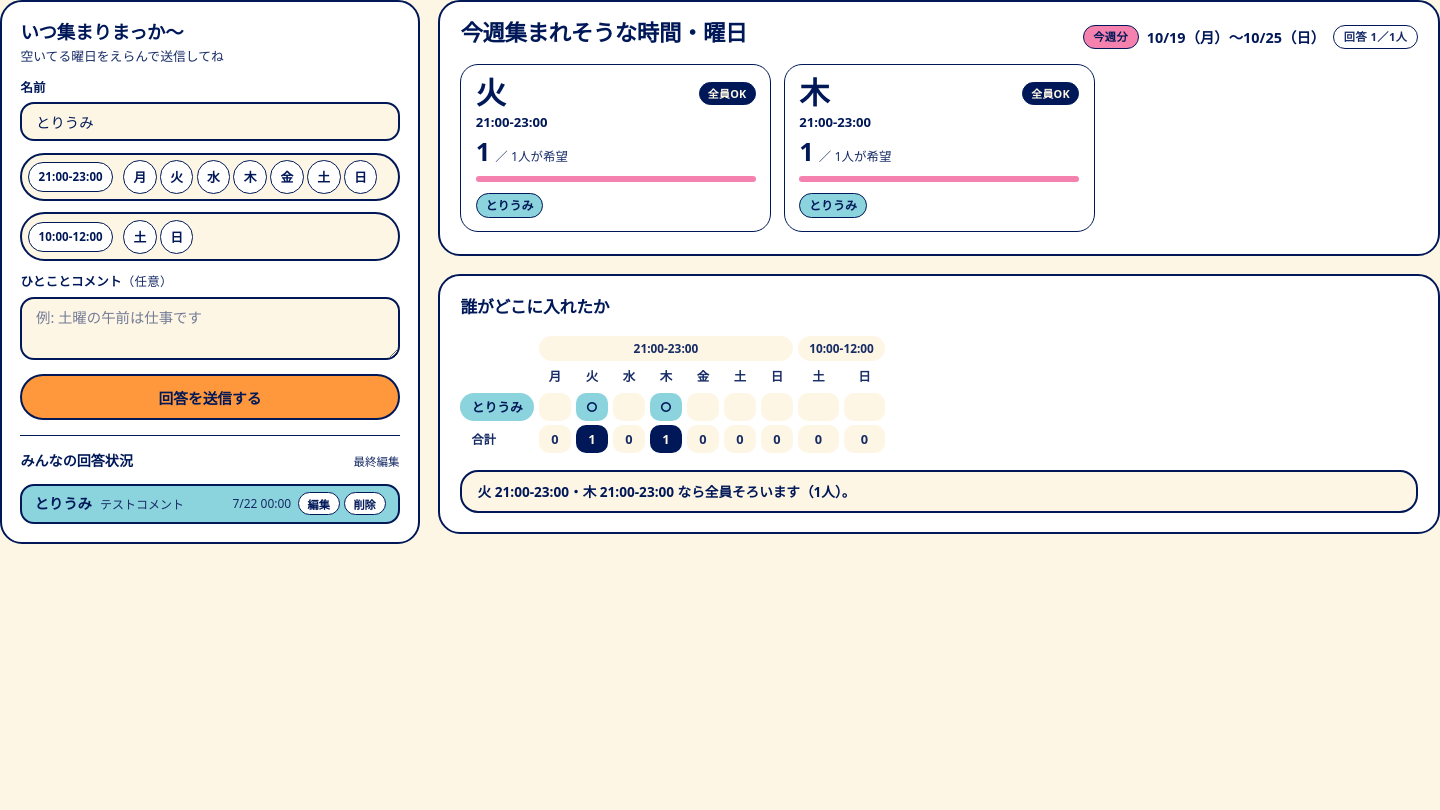
Test: MatrixPageClient: 削除フロー › DELETE API 失敗時にエラーメッセージを表示する
The image size is (1440, 810).
Click the button "削除" at coordinates (365, 504), box [344,492,386,515]
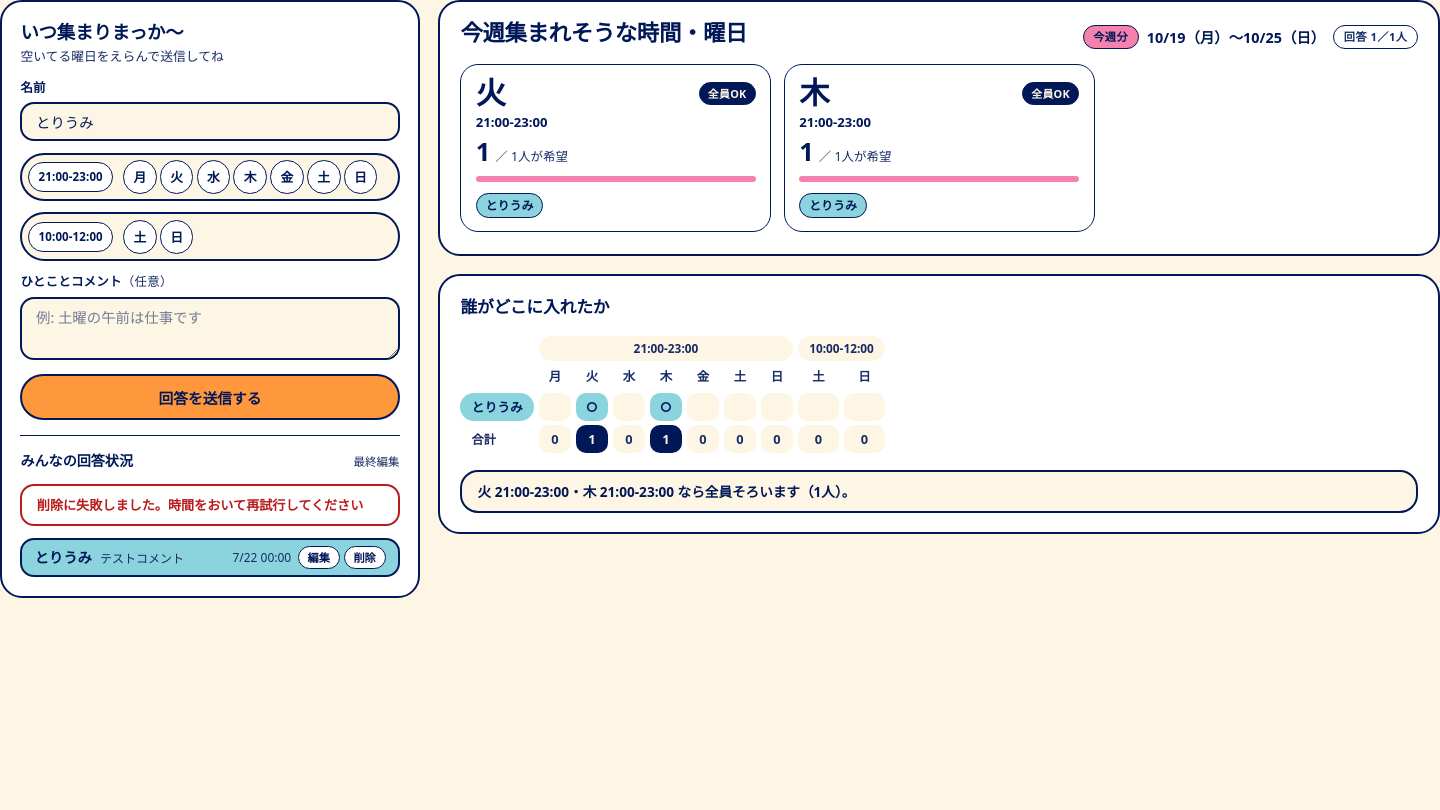
Expected: the message reads "削除に失敗しました。時間をおいて再試行してください", [37,496,363,514]
